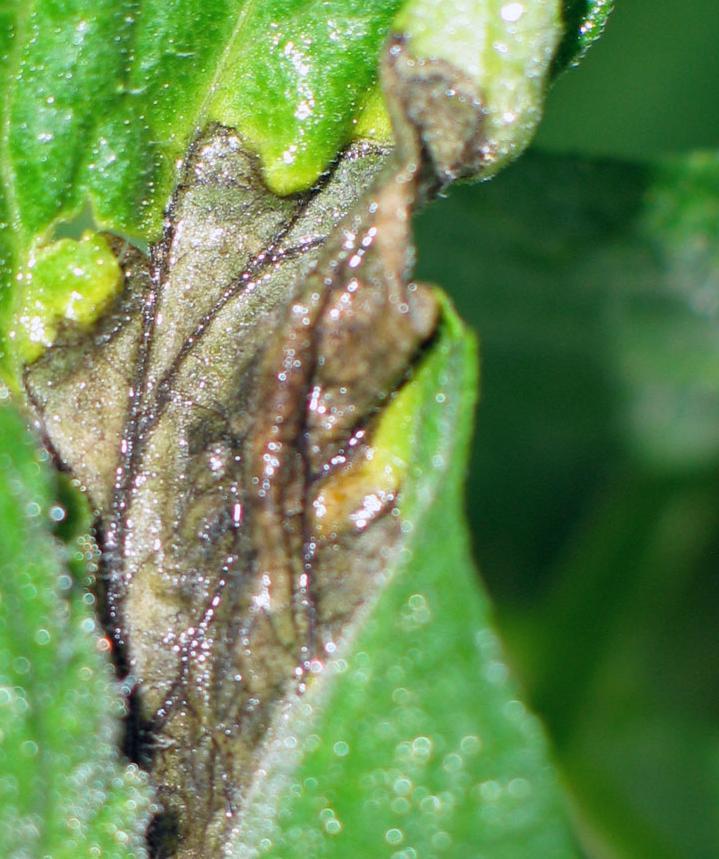Tomato leaf late blight: (0, 0, 684, 859)
